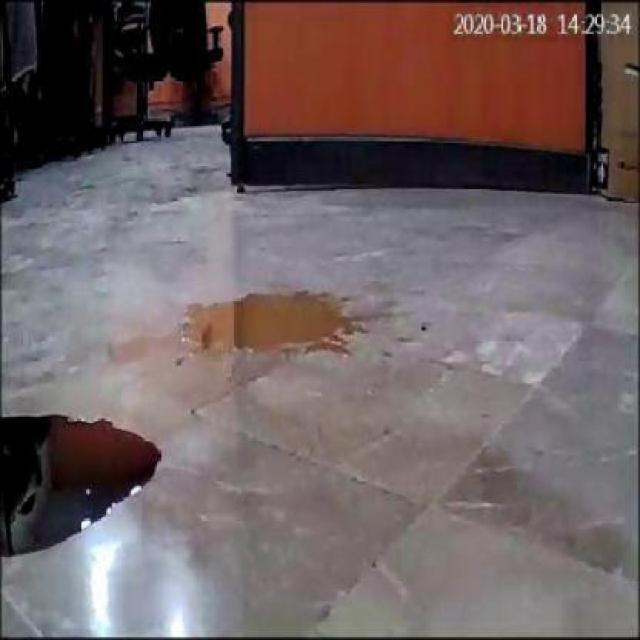spillage: (0, 415, 159, 558), (146, 292, 350, 360)
